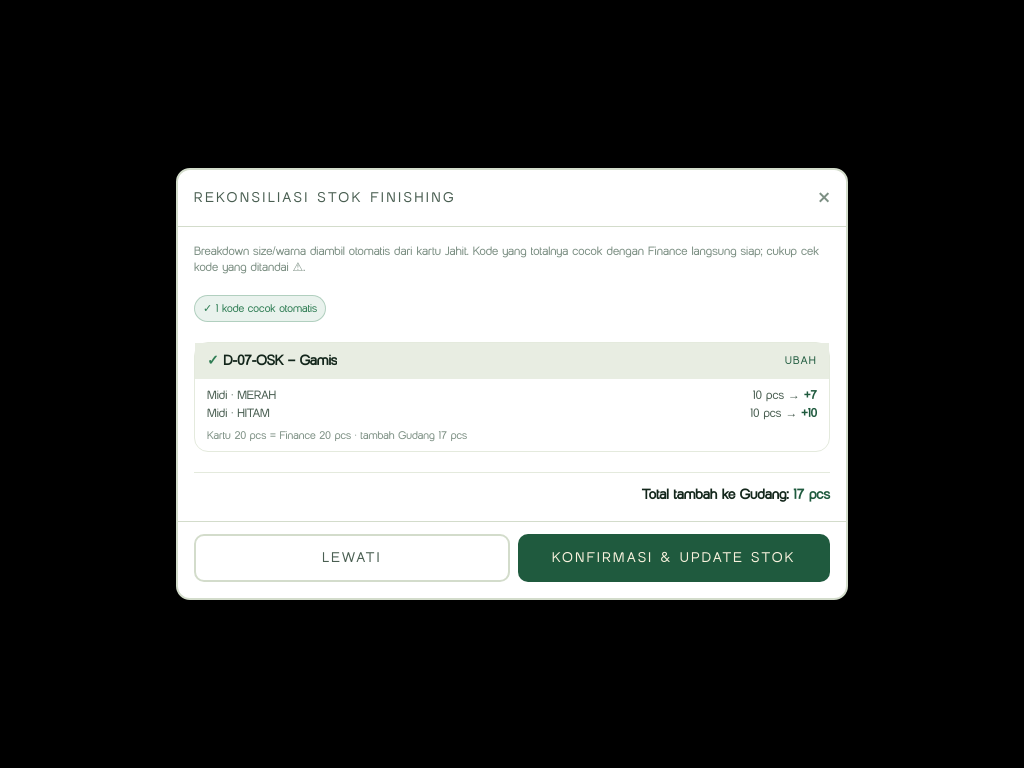
FinishingStockModal (permintaan Denny 2026-09) › adds a manual row when '+ Tambah baris manual' clicked
Expected: the text "✓ D-07-OSK — Gamis" is shown, [207, 350, 337, 370]
Click the button "Ubah": x=801, y=361 [785, 352, 817, 369]
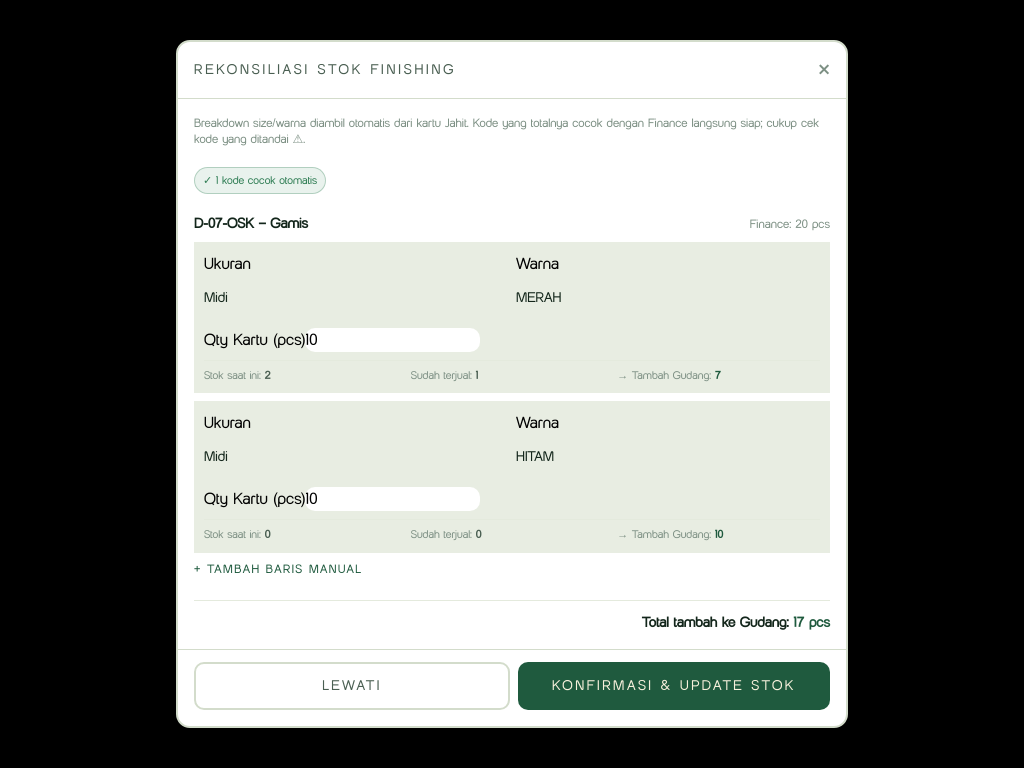
Click the button "+ Tambah baris manual": x=278, y=569 [194, 561, 362, 577]
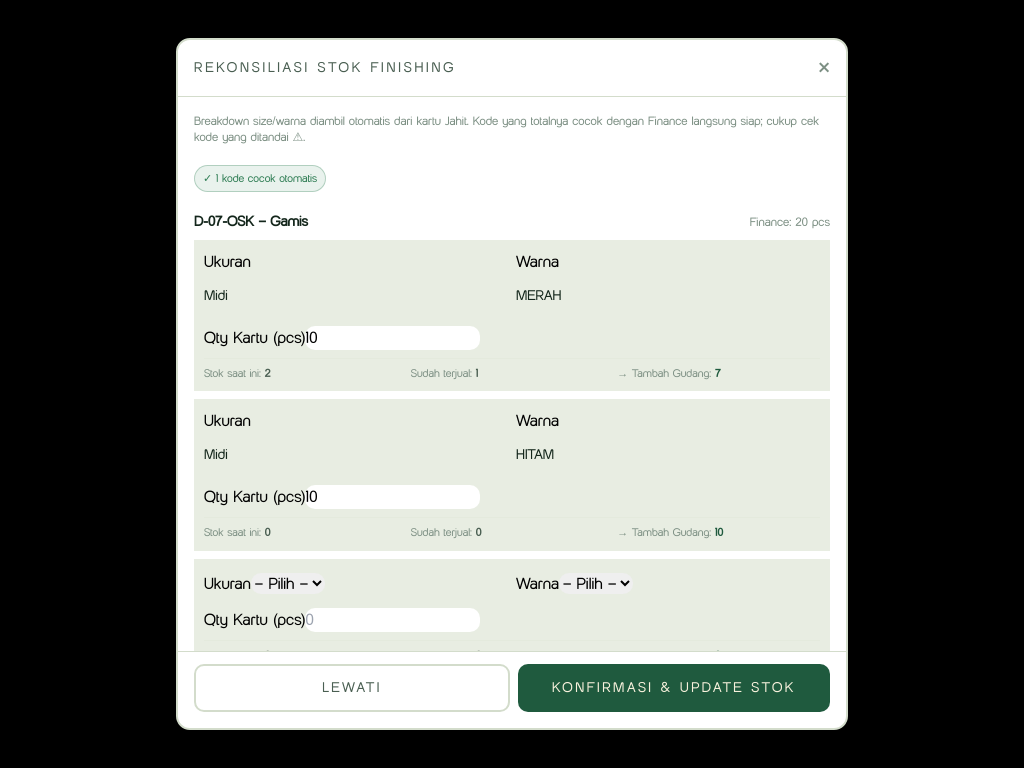
Result: the number of dropdowns is 2 at [251, 573, 325, 594]; [559, 573, 633, 594]
